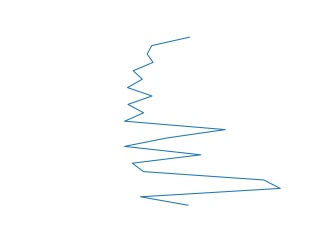crevasseRiverBedLagDeposit: (121, 35, 283, 209)
